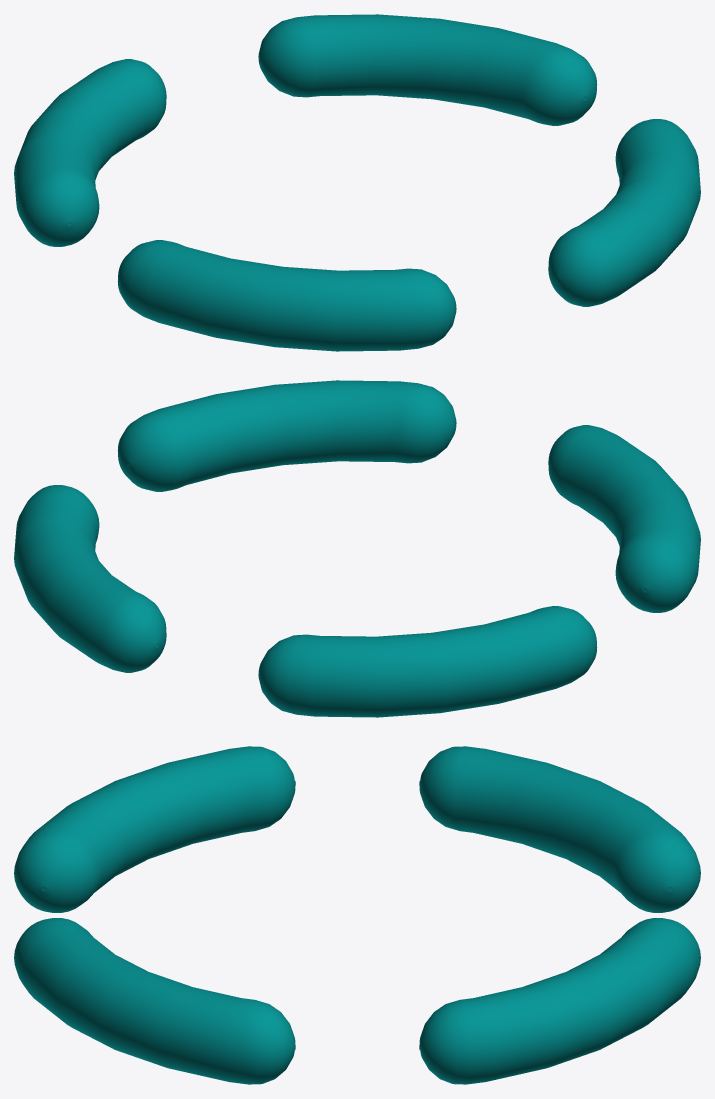
File: selected.fbx
3 renders of one model, top to bottom at view 1: azimuth 30°, elevation 25°; view 2: azimuth 150°, elevation 25°; view 3: azimuth 270°, elevation 25°, orthographic. The views are drawn at different scales.
Parts seen in each view (by area): view 1: Pointer; view 2: Pointer; view 3: Pointer.
Part boxes in pixels (x1,y1,x2,y2): Pointer: (14,14,700,351); Pointer: (14,380,700,717); Pointer: (14,746,700,1084).
Bounding box in the file's own units: 117 × 14.49 × 117.
